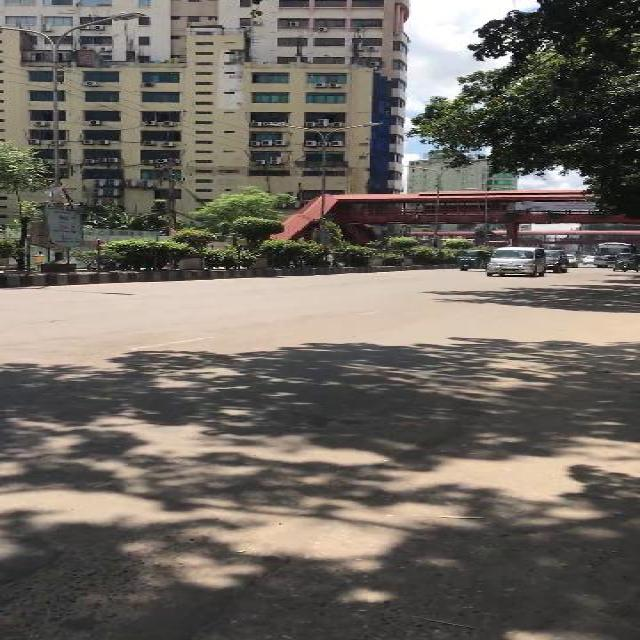bus: (591, 240, 636, 268)
minivan: (545, 248, 568, 272)
three wheelers -CNG-: (455, 248, 487, 270), (614, 250, 638, 272)
van: (485, 246, 546, 278)
